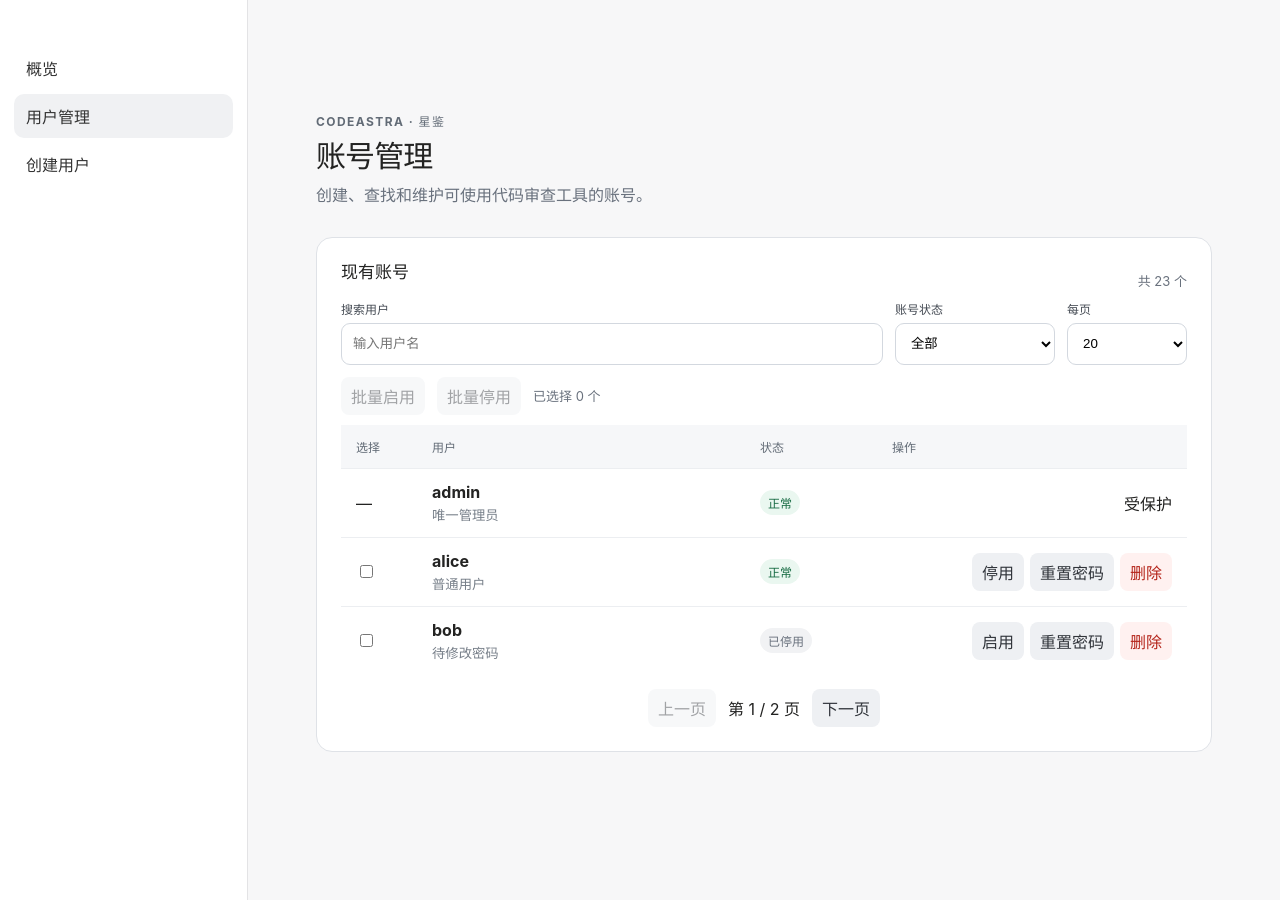
Scenario: AdminUsersPage › creates a normal user with the fixed temporary password and no password field
The image size is (1280, 900).
Click the button "创建用户" at x=124, y=164, box x1=14 y1=142 x2=233 y2=186
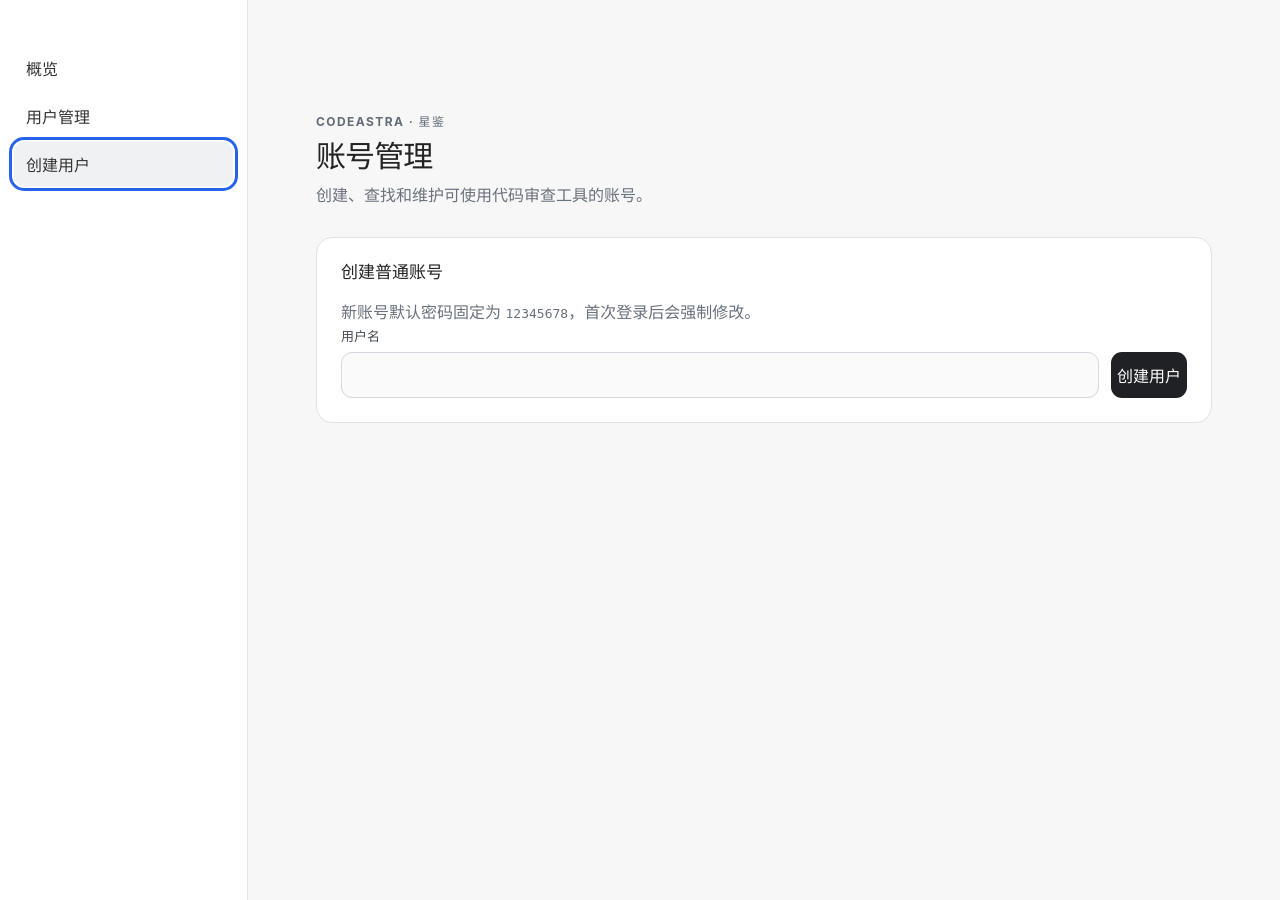
Type "new-user" into the field labelled "用户名" at x=720, y=375, box x1=341 y1=352 x2=1099 y2=398
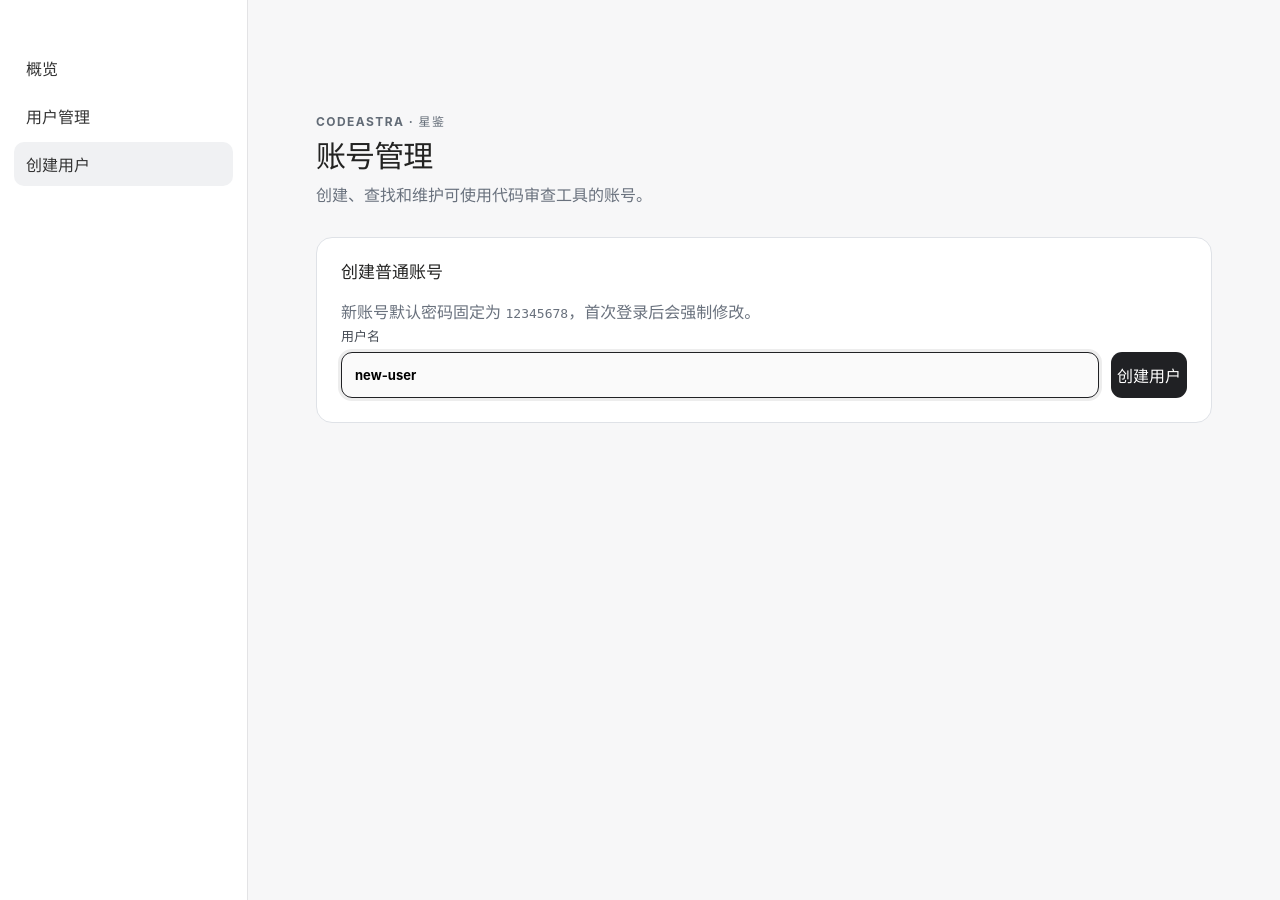
Click the button named "create user" at x=1149, y=375, box x1=1111 y1=352 x2=1187 y2=398
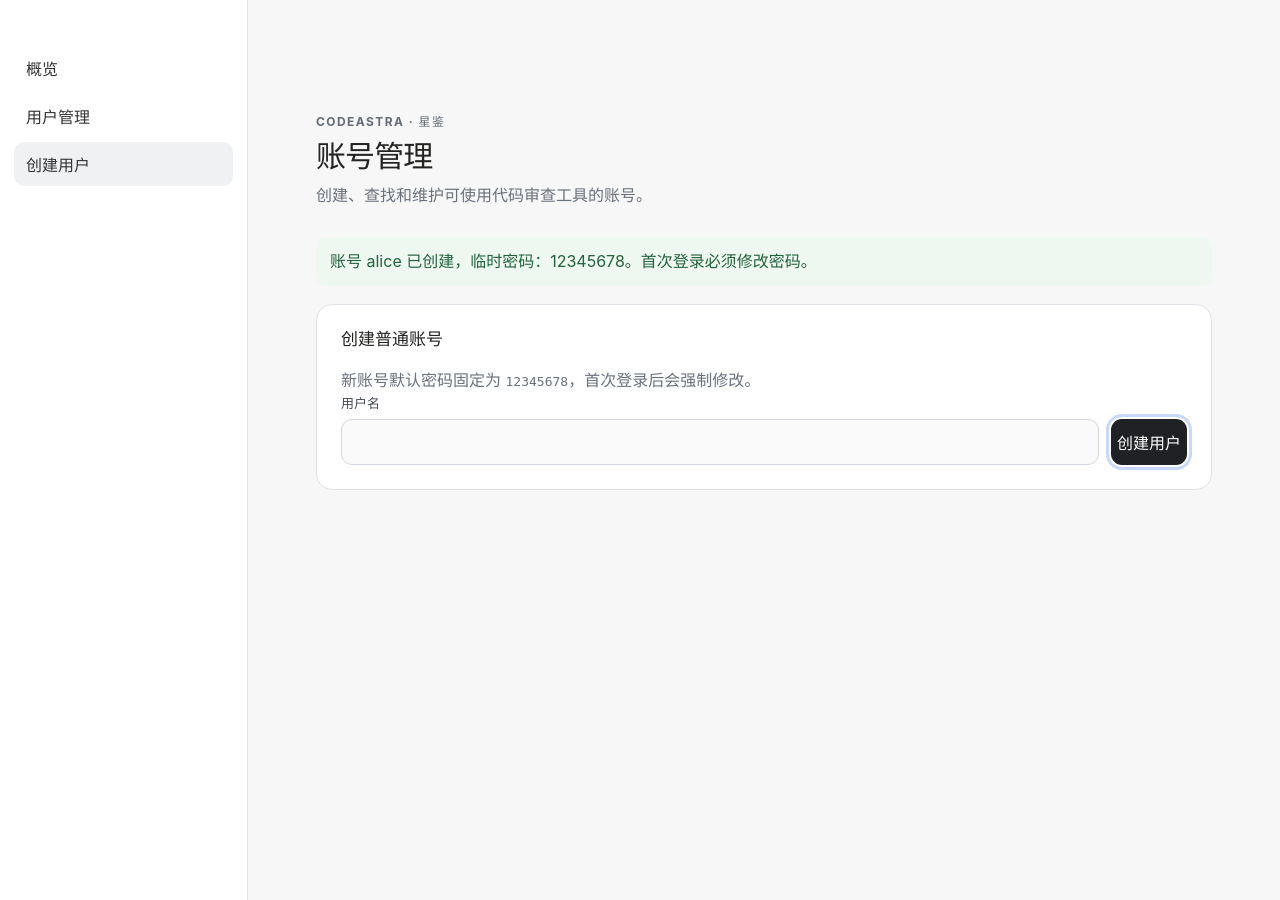
Now the message shows "12345678", box x1=330 y1=251 x2=817 y2=271
